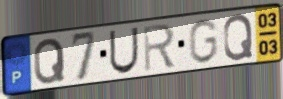7: (70, 30, 98, 84)
G: (187, 17, 220, 65)
Q: (32, 36, 67, 86), (222, 12, 255, 63)
R: (141, 22, 177, 74)
U: (107, 26, 140, 76)
